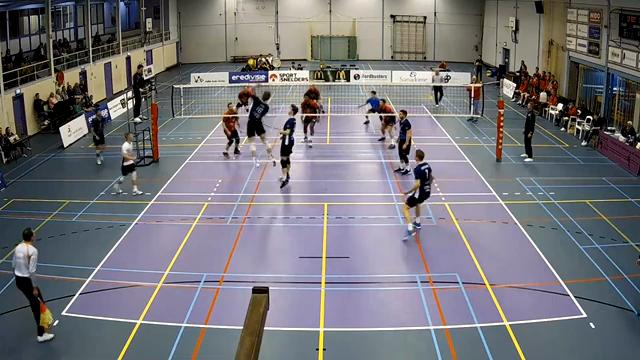Attack: (243, 80, 280, 171)
Player: (404, 149, 433, 239), (114, 132, 142, 194), (280, 104, 298, 188), (395, 110, 411, 174), (301, 95, 319, 147), (222, 102, 239, 157), (378, 99, 395, 148), (360, 91, 379, 124), (304, 85, 323, 112), (236, 86, 254, 110)
ball: (246, 58, 257, 68)
